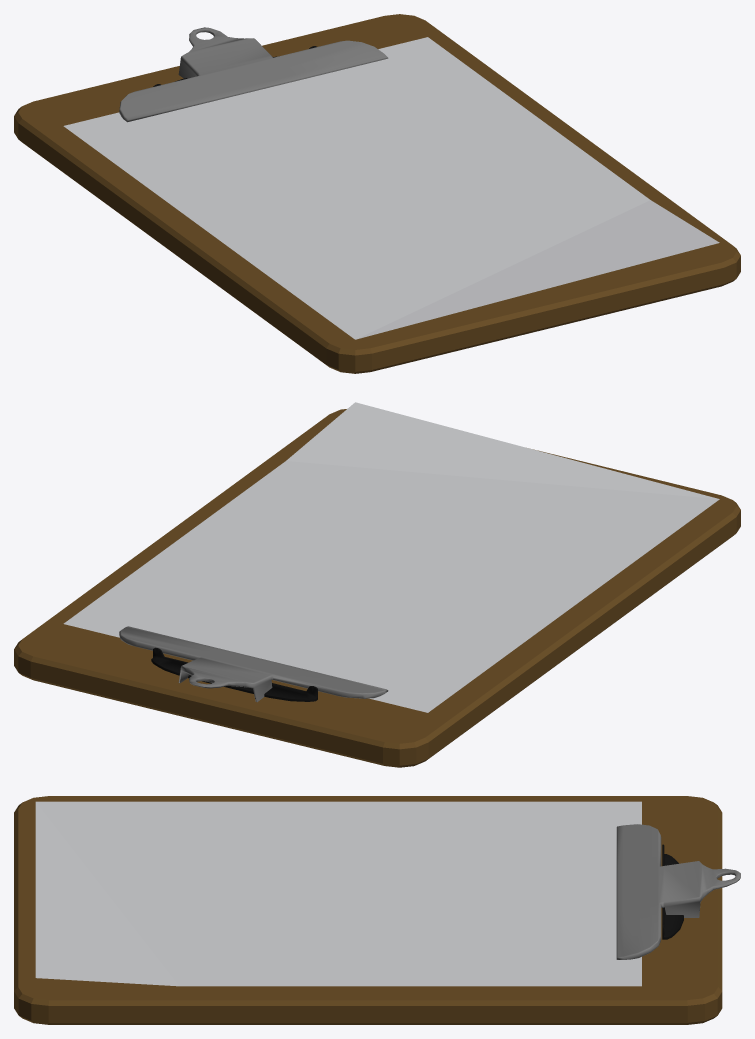
Rendered from SM_ClipBoard.fbx.
3 renders of one model, top to bottom at view 1: azimuth 30°, elevation 25°; view 2: azimuth 150°, elevation 25°; view 3: azimuth 270°, elevation 25°, orthographic. The views are drawn at different scales.
Parts seen in each view (by area): view 1: SM_ClipBoard; view 2: SM_ClipBoard; view 3: SM_ClipBoard.
Part boxes in pixels (left/top/right/bottom): SM_ClipBoard: left=14, top=14, right=740, bottom=373; SM_ClipBoard: left=14, top=402, right=740, bottom=767; SM_ClipBoard: left=14, top=796, right=740, bottom=1024.
Bounding box in the file's own units: 20.52 × 2.22 × 30.34.
